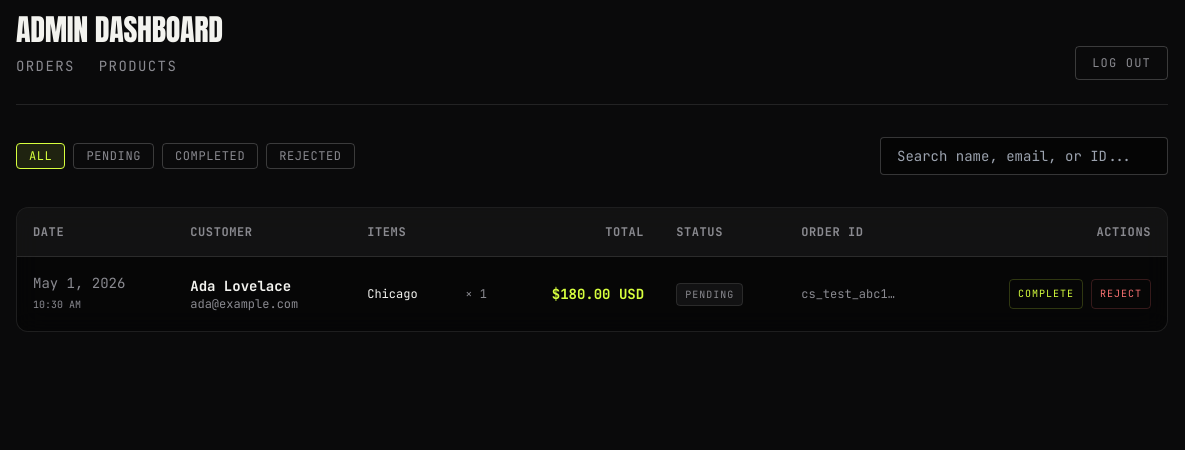
Test case: row expansion › says so when there is no shipping information
The image size is (1185, 450).
expect the text "Ada Lovelace" is shown: met, box [190,277,291,295]
Click the text "ada@example.com".
click(244, 304)  # box [190,296,298,312]
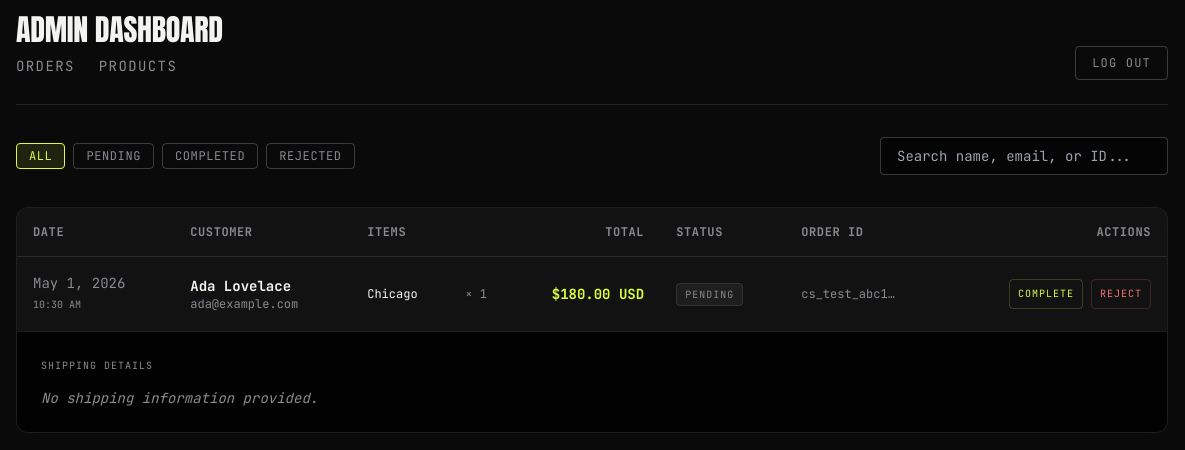
expect the text "No shipping information provided." is shown: met, box [41,388,318,408]
